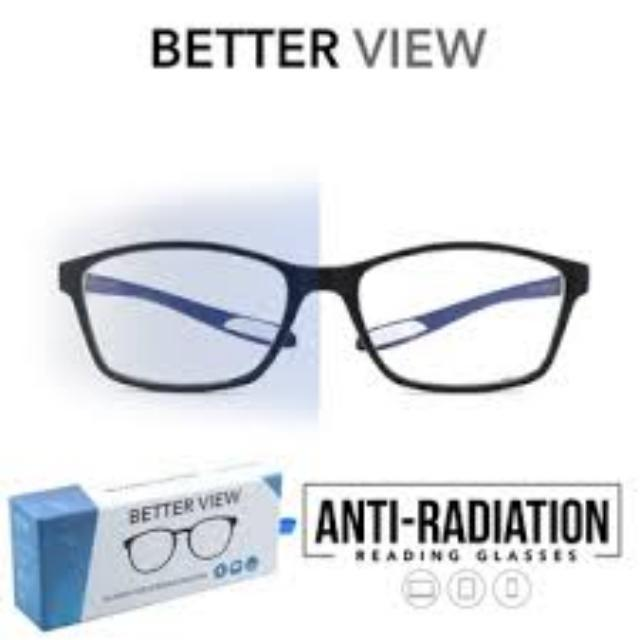glasses: (57, 240, 591, 394)
